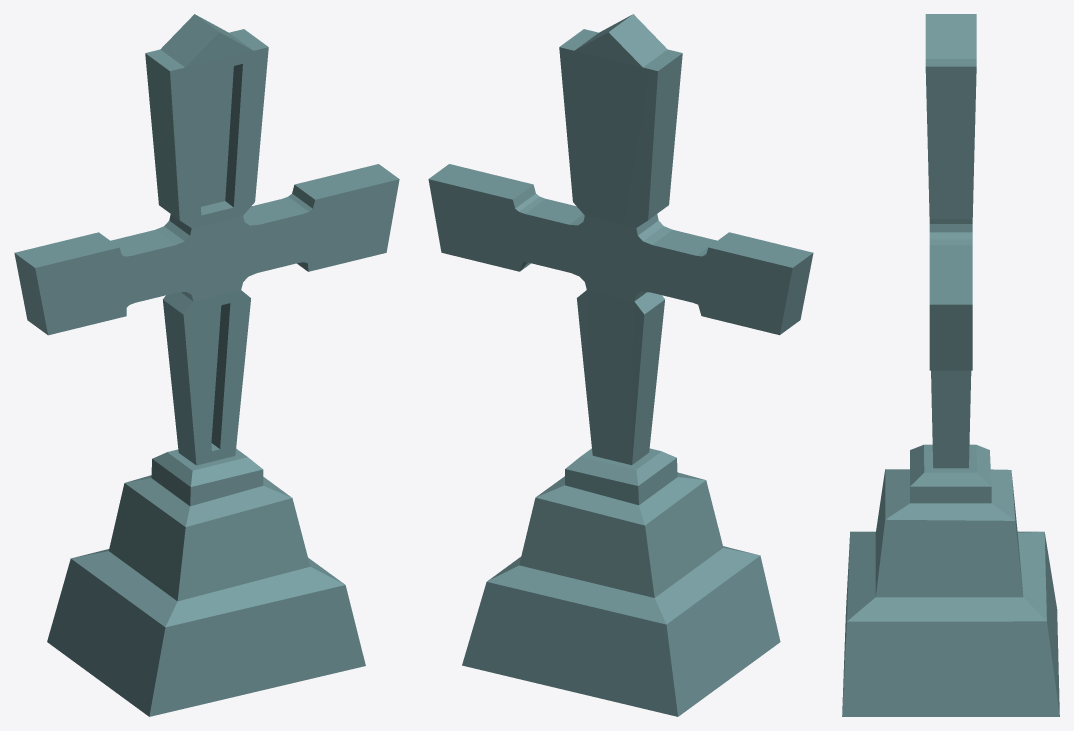
Rendered from Cementery_Tombstone6.fbx.
3 views of the same model, side by side, from view 1: azimuth 30°, elevation 25°; view 2: azimuth 150°, elevation 25°; view 3: azimuth 270°, elevation 25° (orthographic). The views are drawn at different scales.
Parts seen in each view (by area): view 1: Cross_015; view 2: Cross_015; view 3: Cross_015.
Boxes of the visible parts, <box> form: Cross_015: <box>14,14,399,716</box>; Cross_015: <box>428,14,813,716</box>; Cross_015: <box>842,14,1059,716</box>.
Bounding box in the file's own units: 51.65 × 85.34 × 25.93.
